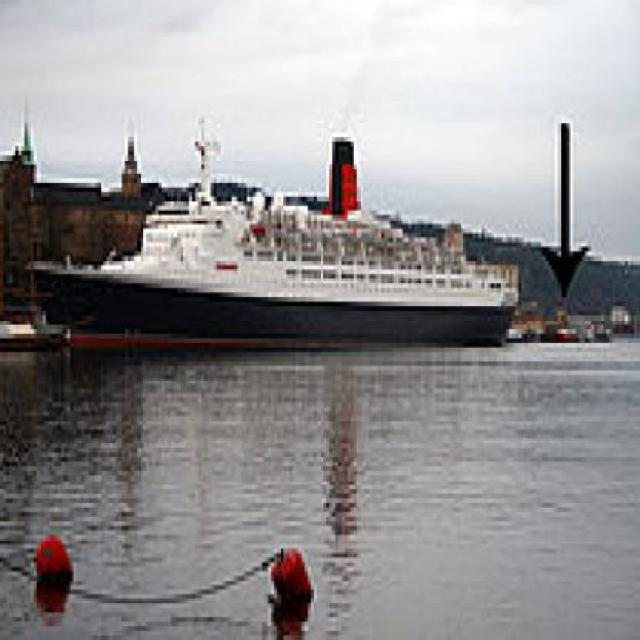cruise: (23, 120, 532, 363)
